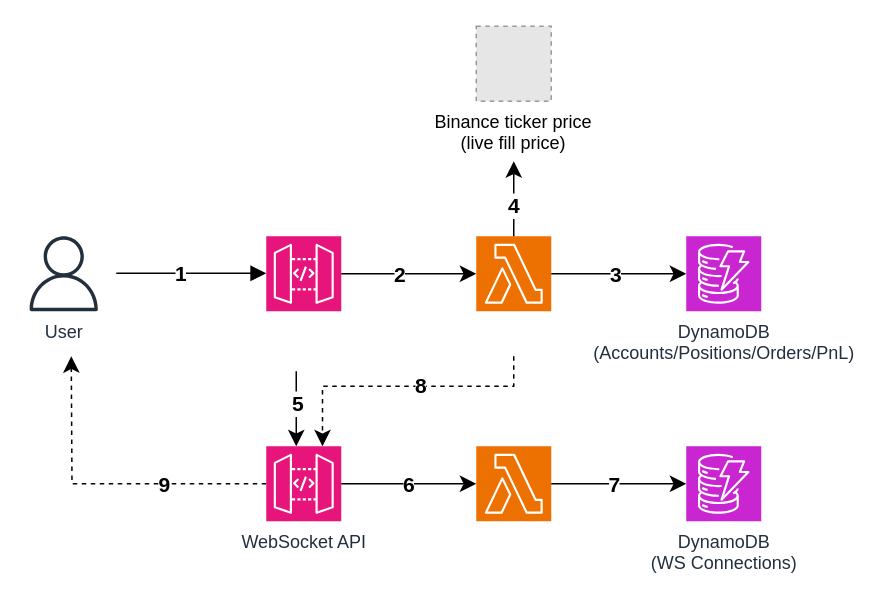
Image size: 879x602. Some labels were removed from this diagram. Grey dashed boxes stand in for pictures. The box of each missing label's shape, as (x1, y1, x2, y2) in pixels:
API Gateway (Paper Trading API): (265, 235, 341, 311)
Connect/Disconnect Lambda: (475, 445, 551, 521)
Trading Lambda: (475, 235, 551, 311)
